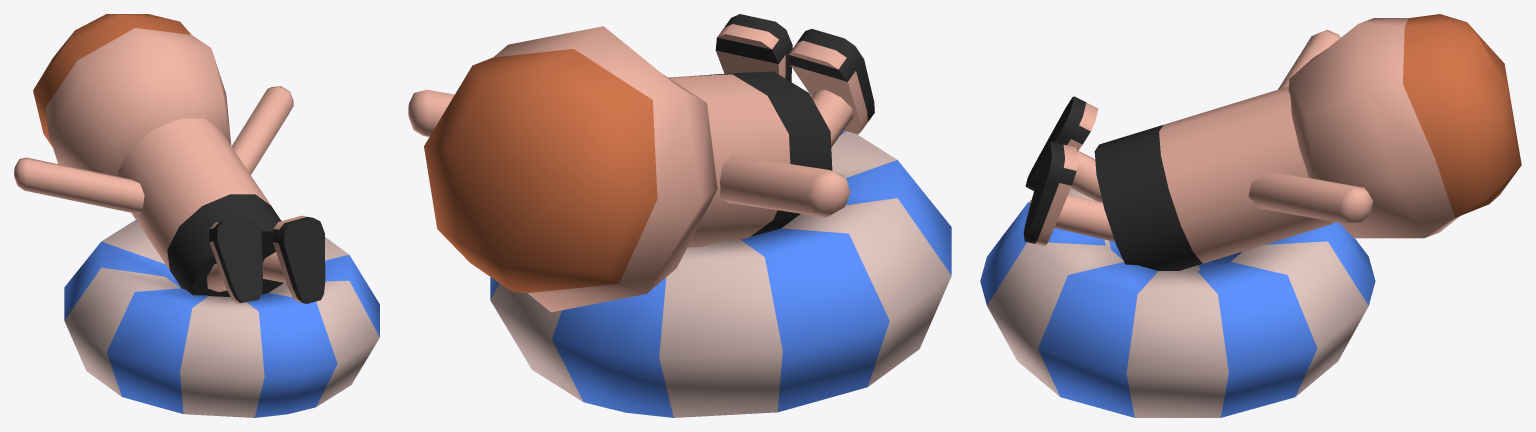
File: character_1.fbx
The picture shows the model from 3 angles, left to right: view 1: azimuth 30°, elevation 25°; view 2: azimuth 150°, elevation 25°; view 3: azimuth 270°, elevation 25°; orthographic projection. The views are drawn at different scales.
Visible parts, largest first — view 1: ring, char_1.011, Cylinder.026, Cube.031, Cube.032, Cylinder.027, Cylinder.028, Cylinder.025; view 2: char_1.011, ring, Cylinder.026, Cube.032, Cube.031, Cylinder.027, Cylinder.025; view 3: char_1.011, ring, Cylinder.027, Cube.031, Cube.032, Cylinder.028, Cylinder.025, Cylinder.026.
Boxes of the visible parts, x1,y1,x2,y2 form: ring: [64, 220, 379, 417]; char_1.011: [33, 14, 283, 297]; Cylinder.026: [14, 157, 144, 214]; Cube.031: [273, 215, 325, 303]; Cube.032: [209, 216, 262, 303]; Cylinder.027: [231, 86, 293, 174]; Cylinder.028: [262, 252, 286, 282]; Cylinder.025: [207, 263, 227, 291]; char_1.011: [424, 26, 832, 312]; ring: [490, 130, 951, 417]; Cylinder.026: [719, 155, 850, 217]; Cube.032: [788, 29, 874, 134]; Cube.031: [715, 14, 792, 81]; Cylinder.027: [408, 89, 454, 136]; Cylinder.025: [811, 90, 852, 147]; char_1.011: [1094, 14, 1521, 270]; ring: [980, 188, 1375, 417]; Cylinder.027: [1248, 172, 1372, 224]; Cube.031: [1023, 141, 1078, 245]; Cube.032: [1025, 96, 1098, 190]; Cylinder.028: [1054, 195, 1114, 241]; Cylinder.025: [1071, 151, 1102, 202]; Cylinder.026: [1278, 30, 1340, 89].
Bounding box in the file's own units: 0.2886 × 0.2642 × 0.3904.
